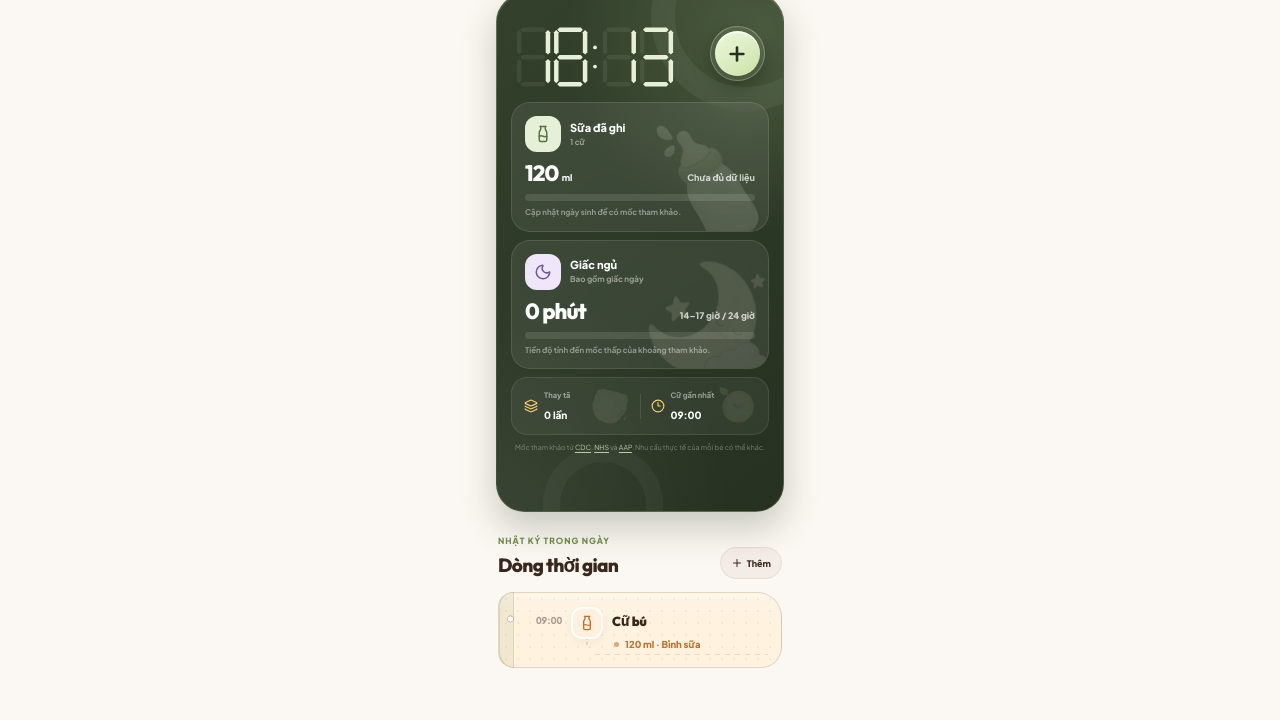
Test: BabyHomeView › allows clicking timeline items on Home to view detail and edit
Expected: the heading "Dòng thời gian" is shown, [498,552,618,579]
Click the button "Cữ bú 120 ml · Bình sữa". click: click(690, 633)
box: [612,614,768,652]
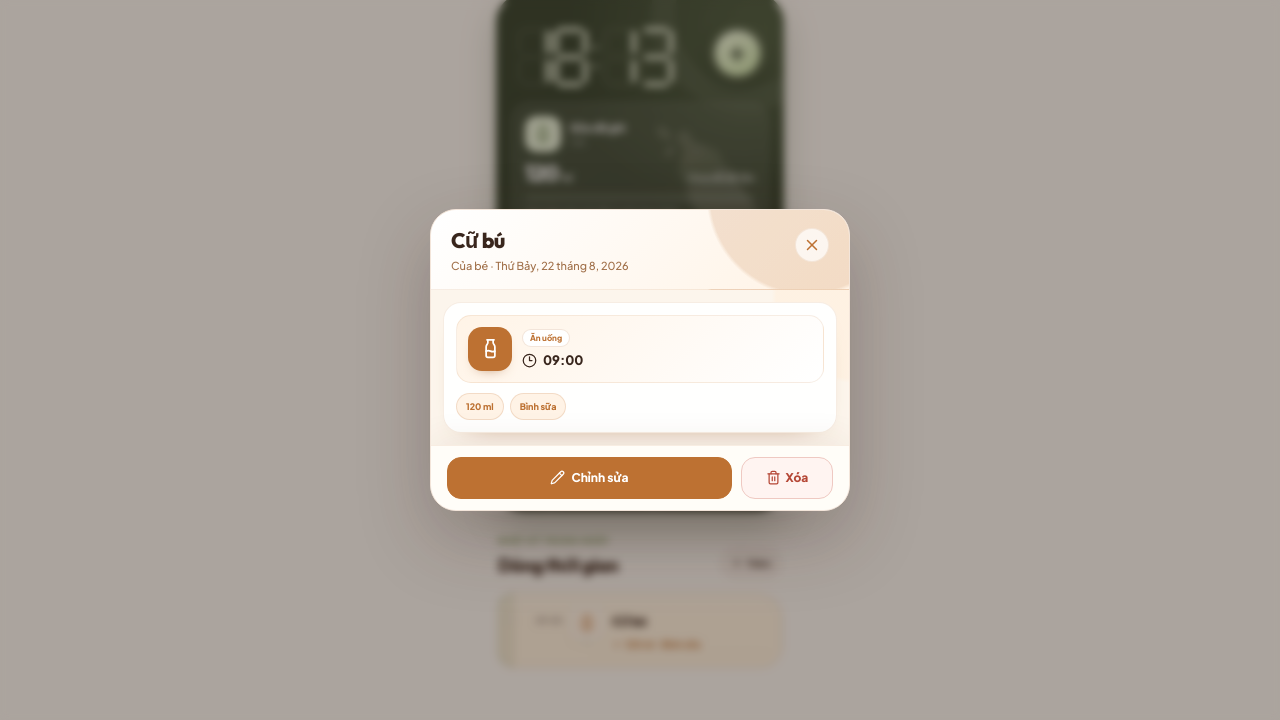
Now the dialog "Cữ bú" is shown, box [430,209,850,511]
Now the button "Chỉnh sửa" is shown
Click the button "Chỉnh sửa". click: click(590, 478)
box: [447,457,732,499]
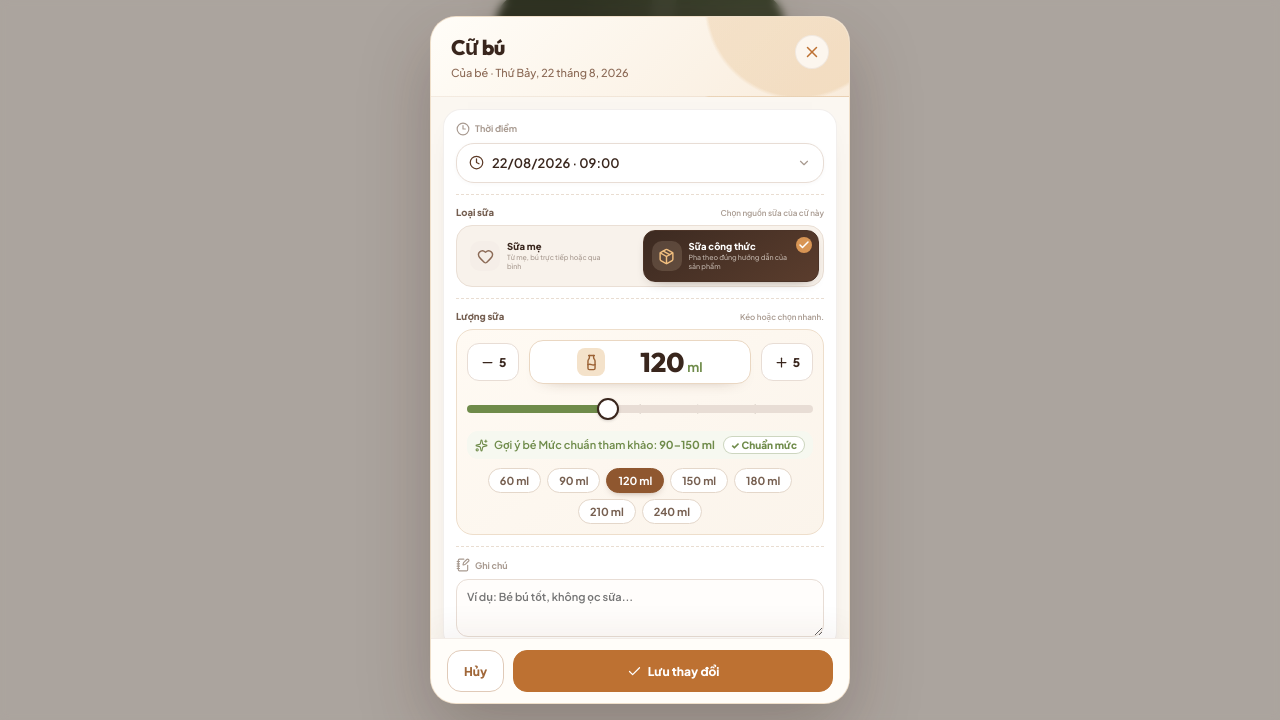
Now the button "Lưu thay đổi" is shown, box [513,650,833,692]
